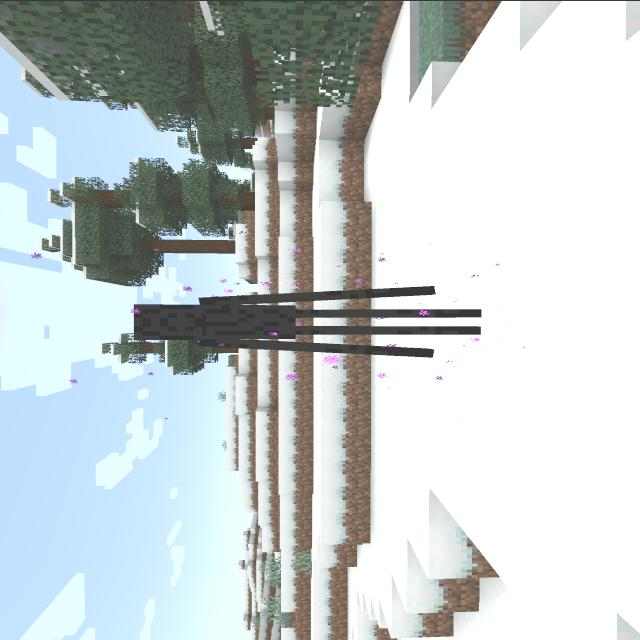Enderman: (125, 273, 499, 365)
